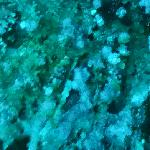dead: (10, 19, 113, 136)
